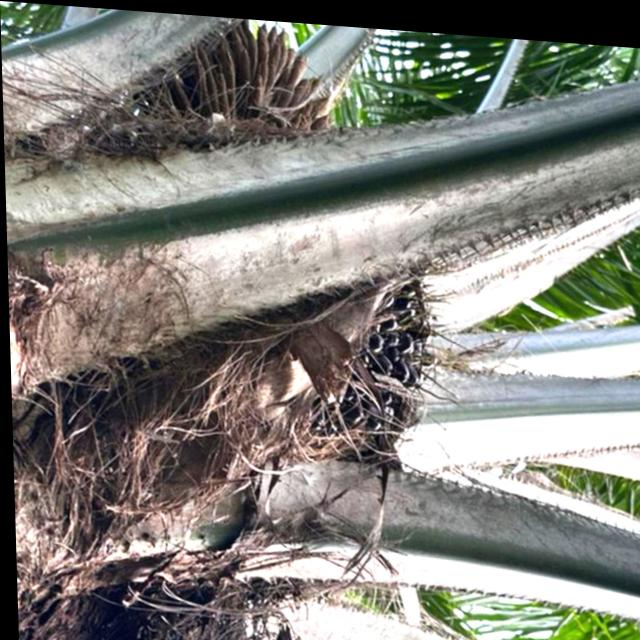almost: (259, 263, 443, 471)
